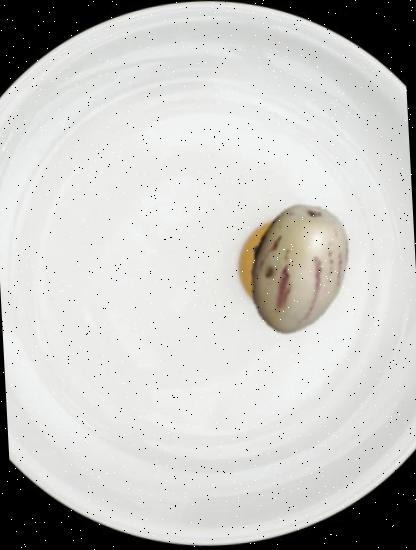Pepino: (228, 198, 367, 337)
